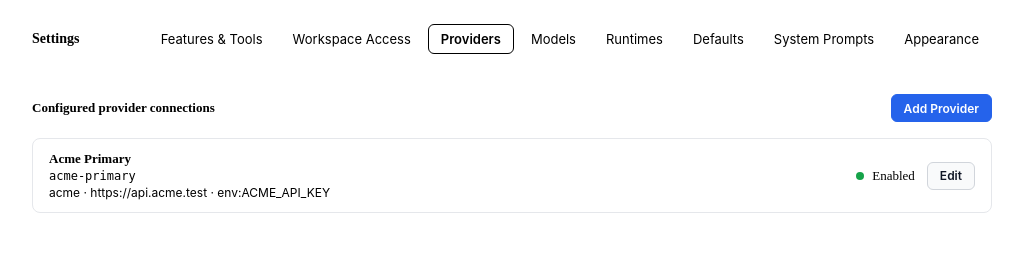
Models inventory actions › offers Add Model, including when the inventory is empty
Step 1. Click the tab "Models" → {"x": 553, "y": 39}, box [518, 24, 589, 54]
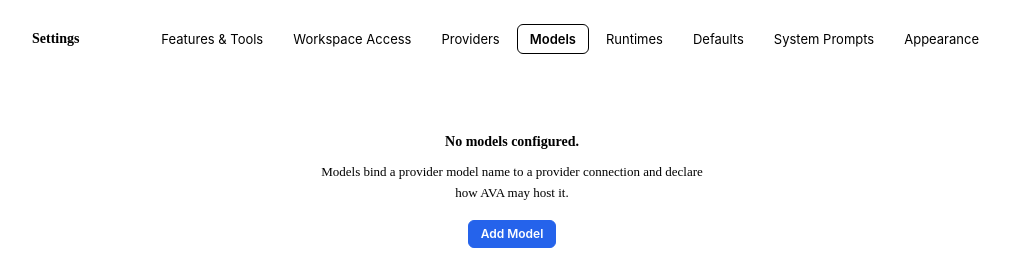
Check: the button "Add Model" is shown, box [468, 220, 556, 248]
